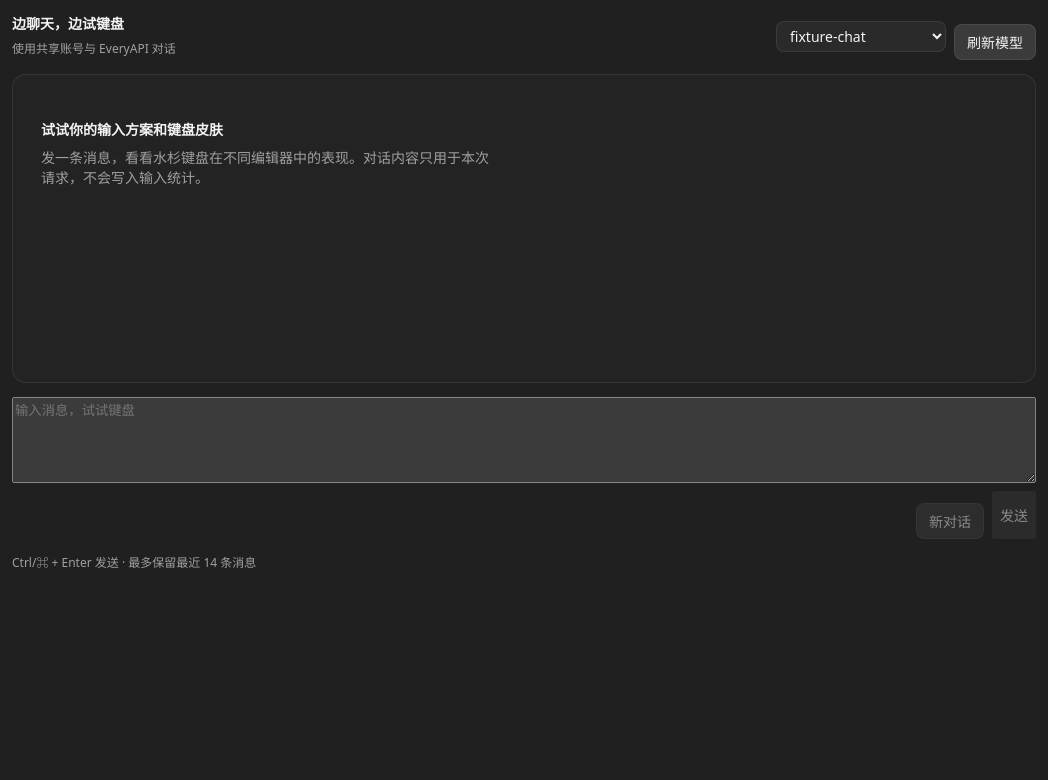
does not render a late response after cancellation
Check: the dropdown named "聊天模型" is shown, box [776,20,946,52]
Step 1. Type "cancel fixture" into the text box named "聊天消息" → [524, 440], box [12,397,1036,483]
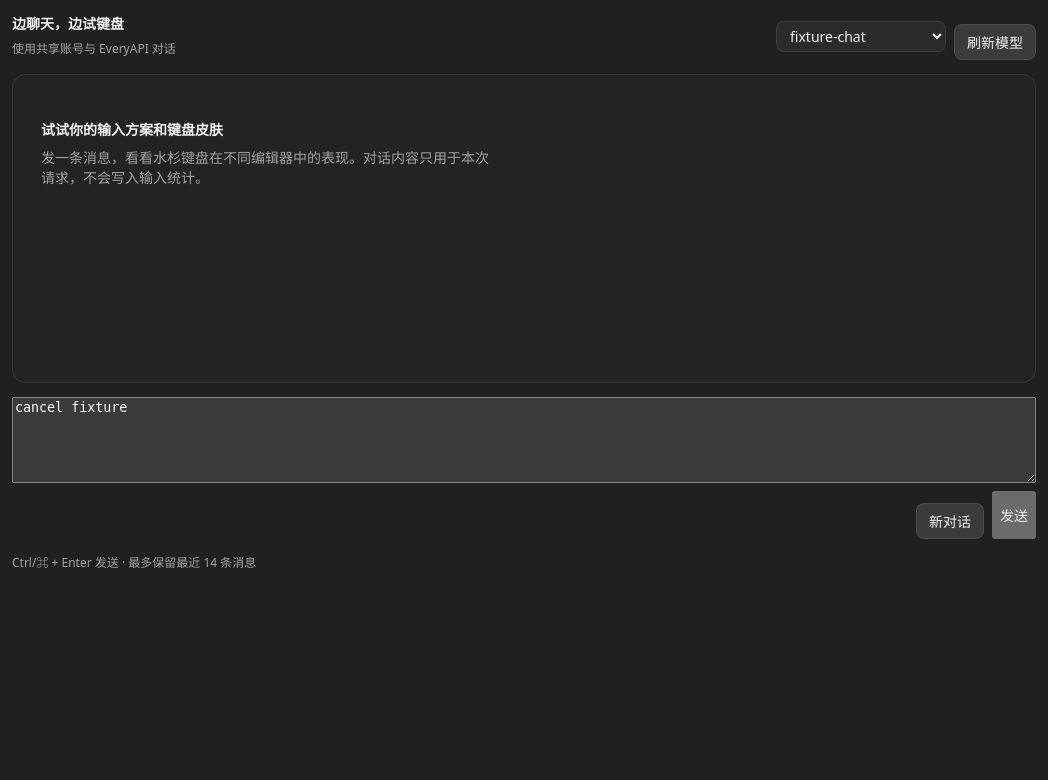
Step 2. Click the button "发送" → [1014, 515], box [992,491,1036,539]
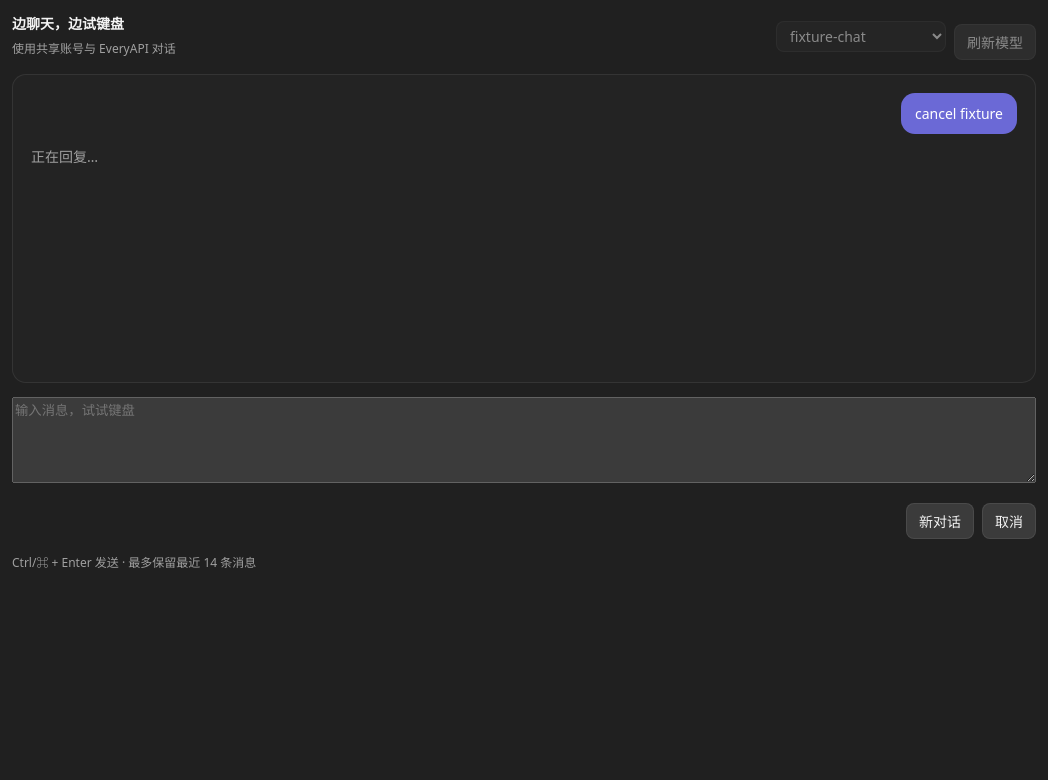
Step 3. Click the button "取消" → [1009, 521], box [982,503,1036,539]
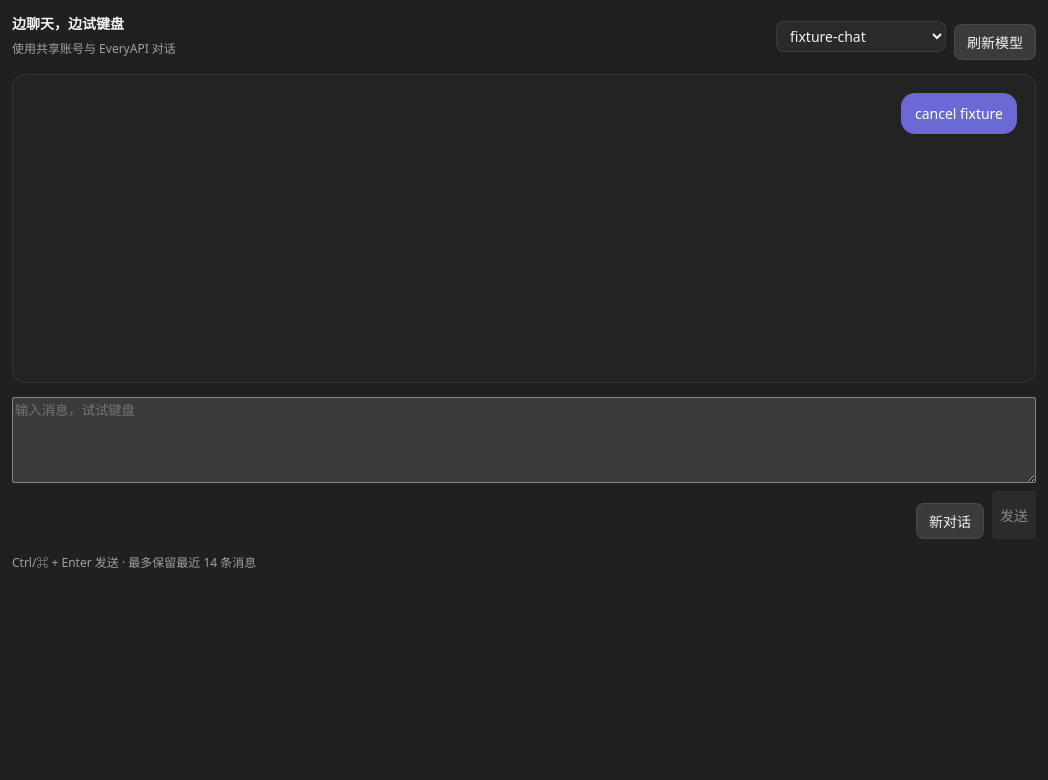
Check: the text "正在回复…" is gone
